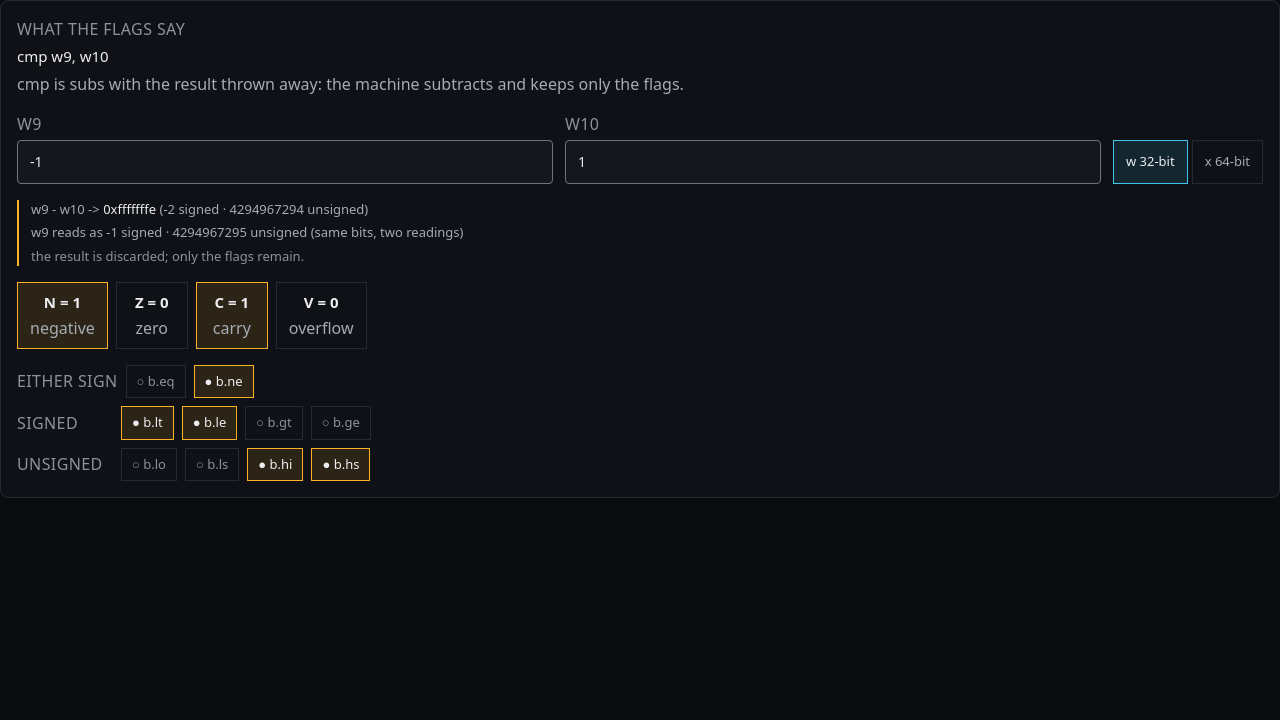
Test case: FlagEffect › recomputes the verdicts when an operand changes
Replace the text in the field labelled "w9" with "5". click: [285, 162]
box: [17,140,553,184]
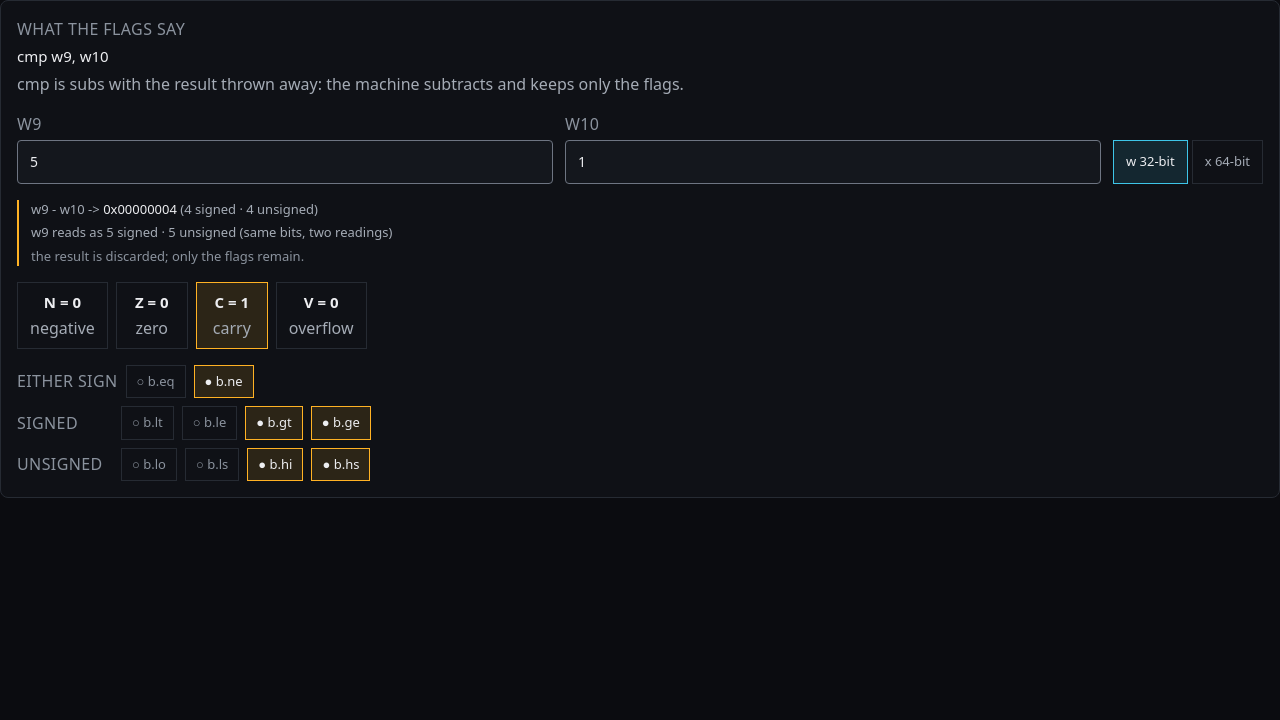
Check: the list item with aria-label "b.hi: taken" is shown, box [247,448,303,481]
Check: the list item with aria-label "b.gt: taken" is shown, box [245,406,303,440]
Check: the list item with aria-label "b.lt: not taken" is shown, box [121,406,174,440]
